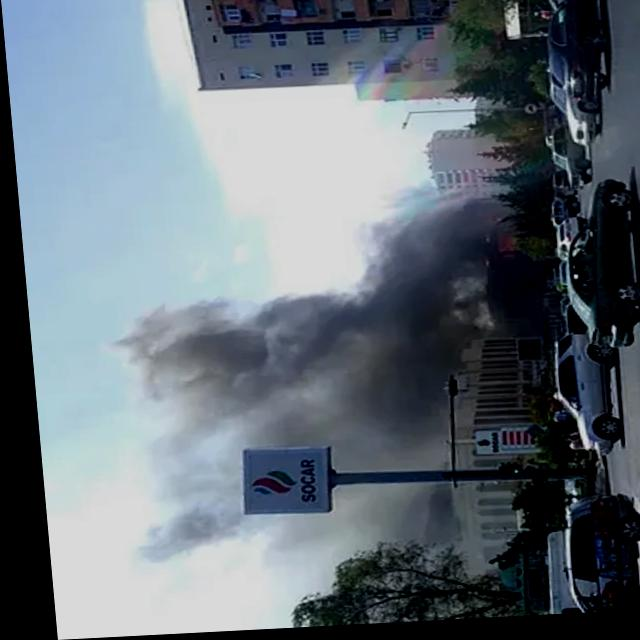no_helmet: (99, 190, 512, 403)
